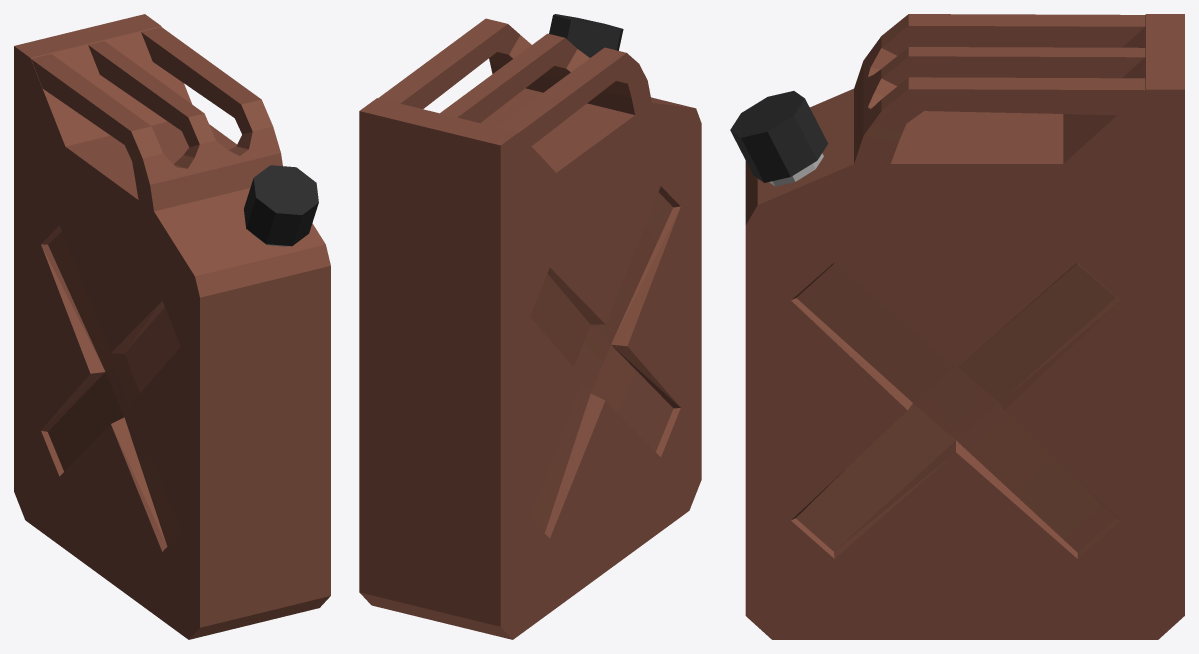
Rendered from SM_gas_can_2.gltf.
3 views of the same model, side by side, from view 1: azimuth 30°, elevation 25°; view 2: azimuth 150°, elevation 25°; view 3: azimuth 270°, elevation 25° (orthographic). The views are drawn at different scales.
Visible parts, largest first — view 1: SM_gas_can_2; view 2: SM_gas_can_2; view 3: SM_gas_can_2.
Boxes of the visible parts, <box> form: SM_gas_can_2: <box>14,14,330,639</box>; SM_gas_can_2: <box>359,14,701,639</box>; SM_gas_can_2: <box>730,14,1184,639</box>.
Size of the model in its own units: 0.1679 by 0.5713 by 0.4276.
1 material, 1 textured.
